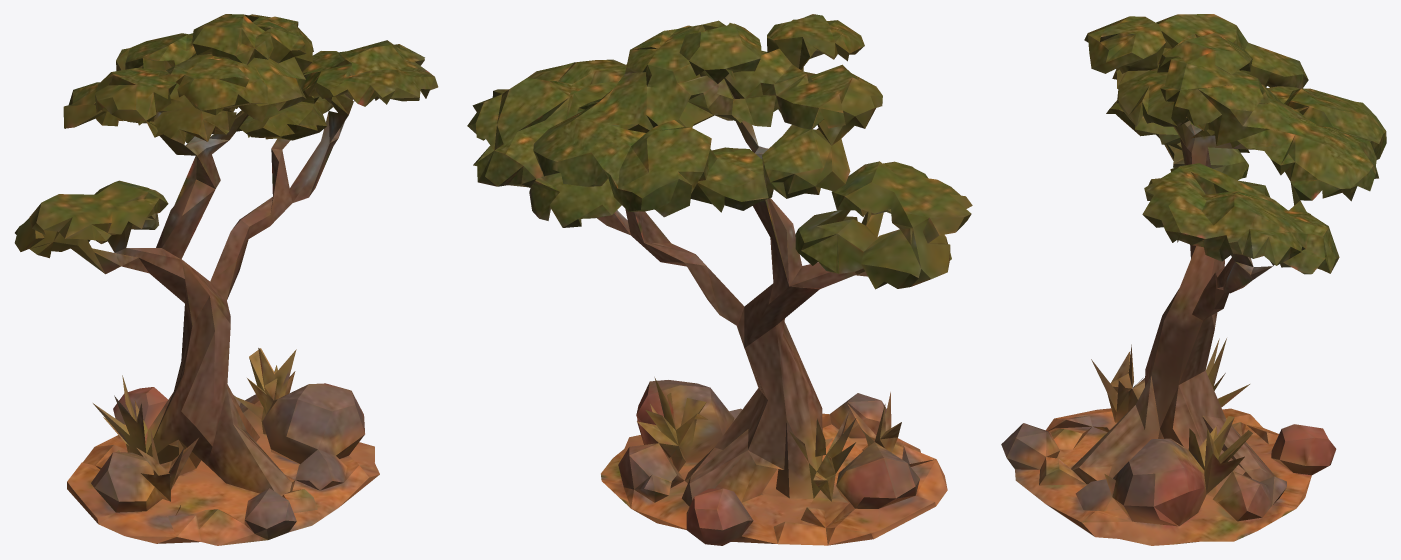
Rendered from tree_02.glb.
The picture shows the model from 3 angles, left to right: view 1: azimuth 30°, elevation 25°; view 2: azimuth 150°, elevation 25°; view 3: azimuth 270°, elevation 25°; orthographic projection. The views are drawn at different scales.
Visible parts, largest first — view 1: tree_02; view 2: tree_02; view 3: tree_02.
Part boxes in pixels (left/top/right/bottom): tree_02: left=14, top=14, right=438, bottom=545; tree_02: left=467, top=14, right=972, bottom=545; tree_02: left=1001, top=14, right=1386, bottom=545.
Size of the model in its own units: 5.83 by 5.7 by 4.42.
Materials: 1 (1 with a texture image).
